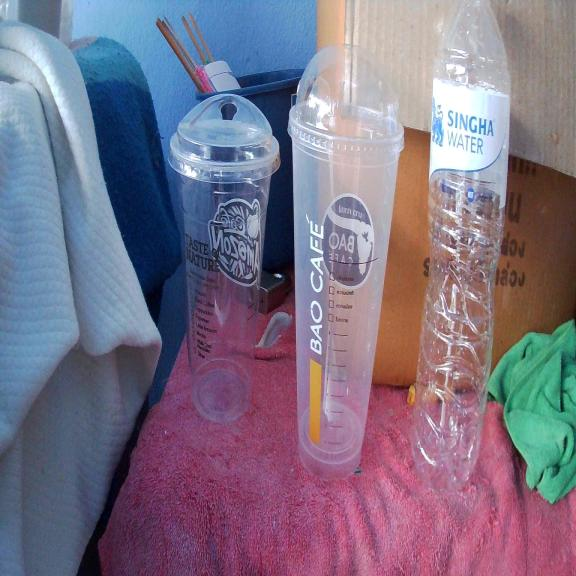Plastik: (289, 46, 403, 477), (413, 0, 510, 487), (170, 95, 279, 422)
